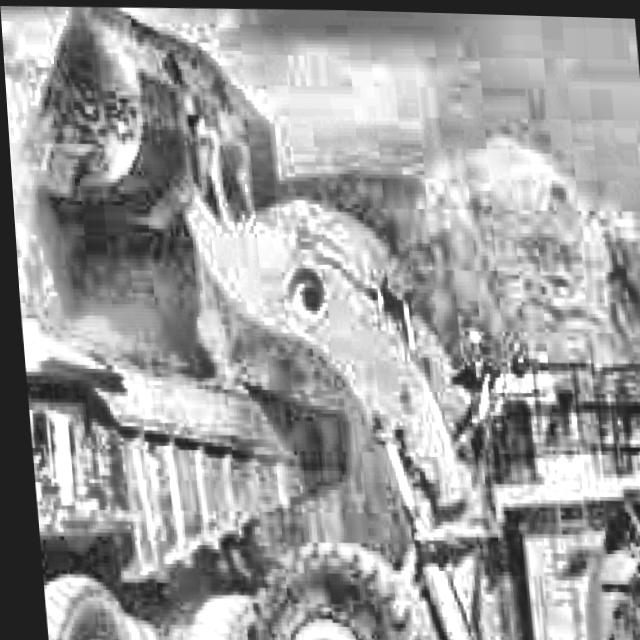buldozerpayloadergrader: (21, 0, 640, 640)
